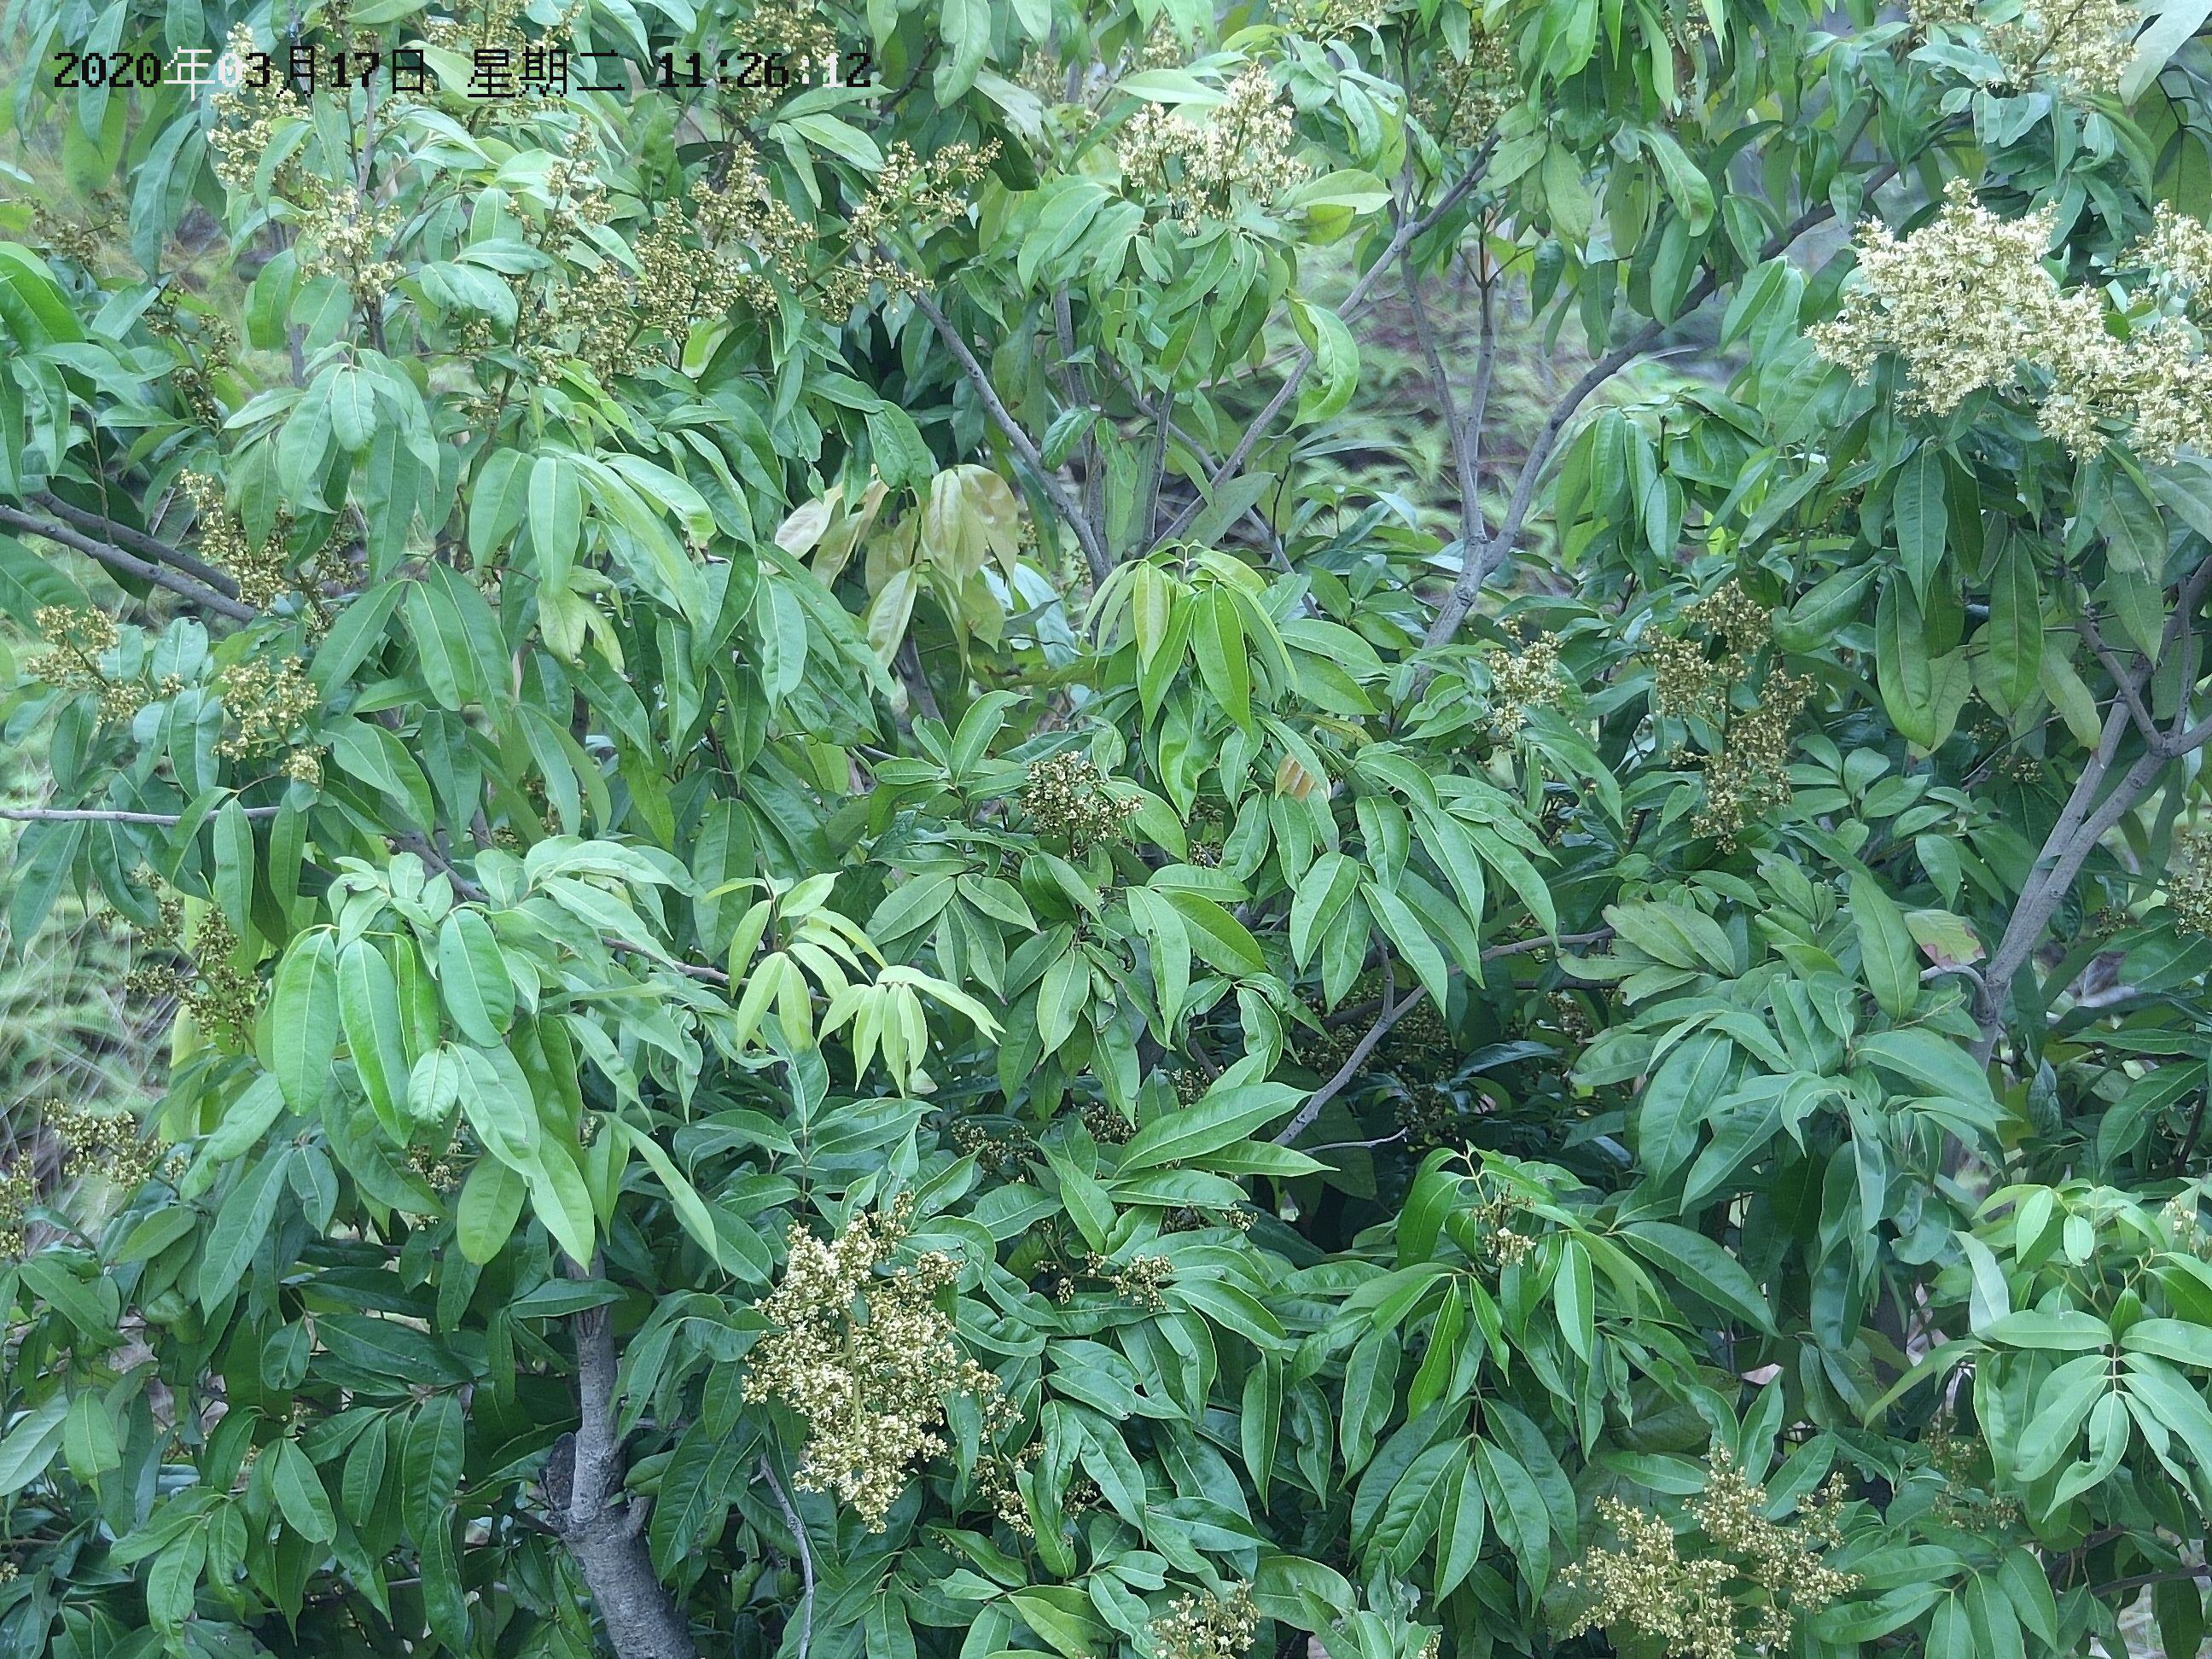开花始期: (1634, 577, 1829, 845), (500, 112, 601, 392), (99, 864, 266, 1032), (185, 474, 317, 612), (42, 1091, 181, 1188), (1024, 749, 1148, 850)
开花盛期: (1804, 176, 2212, 467), (744, 1204, 977, 1535), (1552, 1439, 1878, 1659), (199, 19, 420, 310), (1111, 58, 1318, 220), (826, 134, 1003, 321), (691, 134, 815, 321), (1975, 0, 2161, 105), (608, 190, 698, 387), (204, 653, 329, 788), (961, 1361, 1043, 1542), (26, 601, 145, 716), (1480, 608, 1571, 735), (1144, 1579, 1264, 1657), (1040, 1246, 1181, 1310), (1479, 1220, 1536, 1270)
